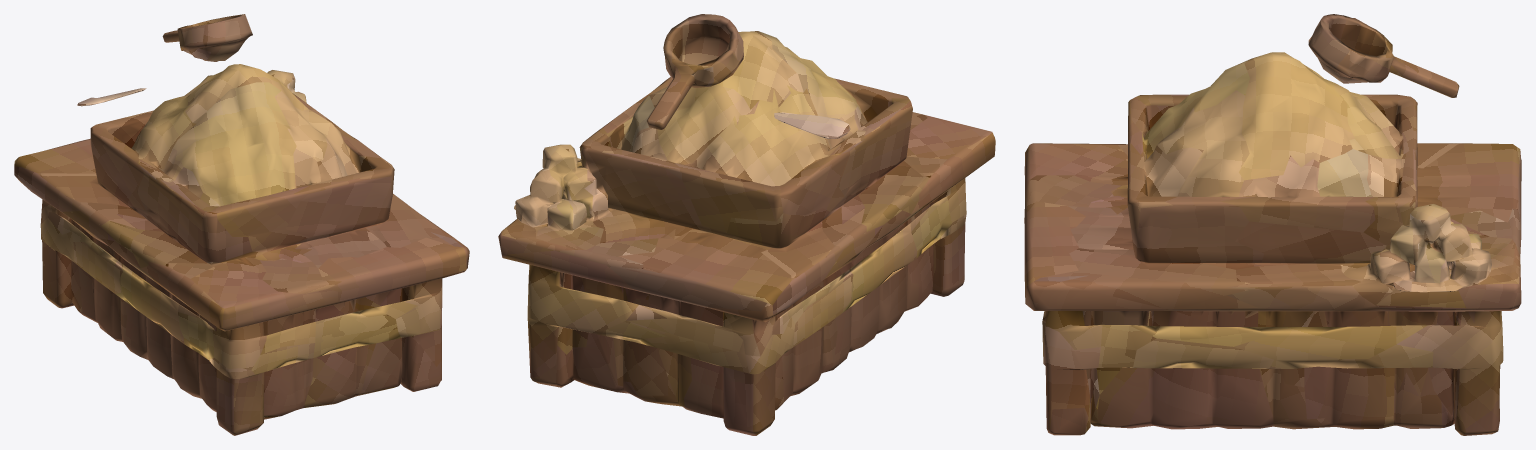
The model's file is KR_사물_s1_station_topping_t2.glb.
3 views of the same model, side by side, from view 1: azimuth 30°, elevation 25°; view 2: azimuth 150°, elevation 25°; view 3: azimuth 270°, elevation 25° (orthographic). The views are drawn at different scales.
Visible parts, largest first — view 1: tripo_node_e3eec168-e92c-4ccf-9e66-09bdb924de14; view 2: tripo_node_e3eec168-e92c-4ccf-9e66-09bdb924de14; view 3: tripo_node_e3eec168-e92c-4ccf-9e66-09bdb924de14.
Boxes of the visible parts, left/top/right/bottom form: tripo_node_e3eec168-e92c-4ccf-9e66-09bdb924de14: left=14, top=14, right=469, bottom=435; tripo_node_e3eec168-e92c-4ccf-9e66-09bdb924de14: left=498, top=14, right=995, bottom=435; tripo_node_e3eec168-e92c-4ccf-9e66-09bdb924de14: left=1024, top=14, right=1521, bottom=435.
Size of the model in its own units: 0.7255 by 0.7988 by 0.9997.
1 material, 1 textured.
